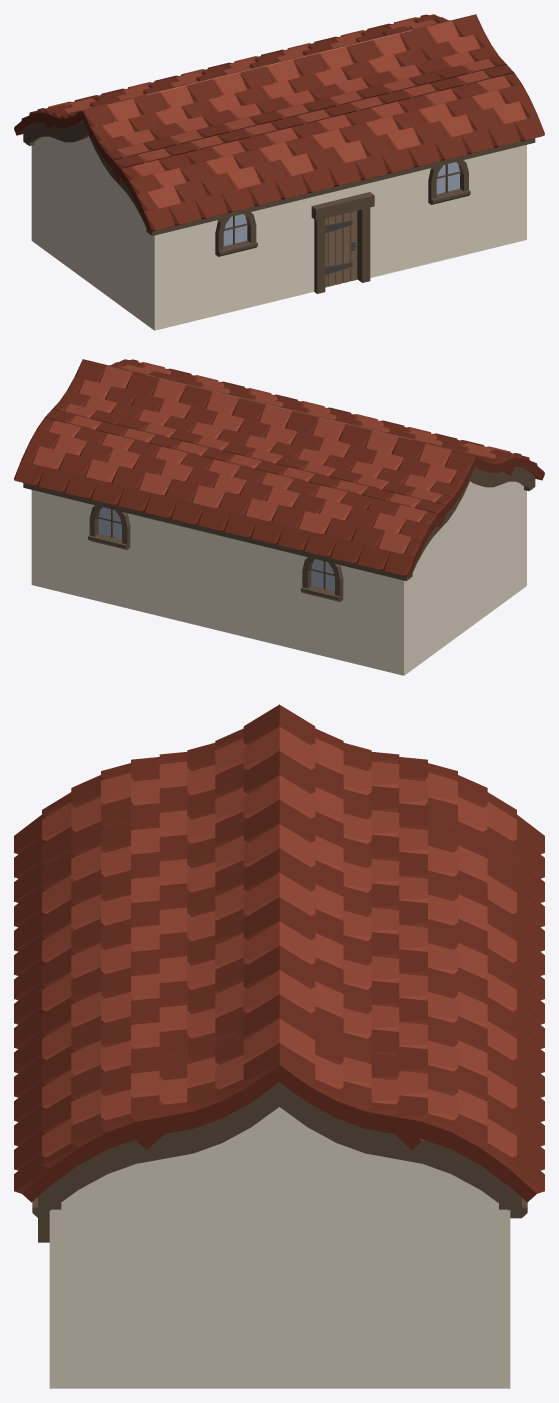
File: Lodge.fbx
The picture shows the model from 3 angles, top to bottom: view 1: azimuth 30°, elevation 25°; view 2: azimuth 150°, elevation 25°; view 3: azimuth 270°, elevation 25°; orthographic projection. The views are drawn at different scales.
Parts seen in each view (by area): view 1: mergedBlocks; view 2: mergedBlocks; view 3: mergedBlocks.
Part boxes in pixels (x1,y1,x2,y2): mergedBlocks: (14, 14, 544, 330); mergedBlocks: (14, 359, 544, 675); mergedBlocks: (14, 704, 544, 1388).
Bounding box in the file's own units: 74.01 × 32 × 46.1.
